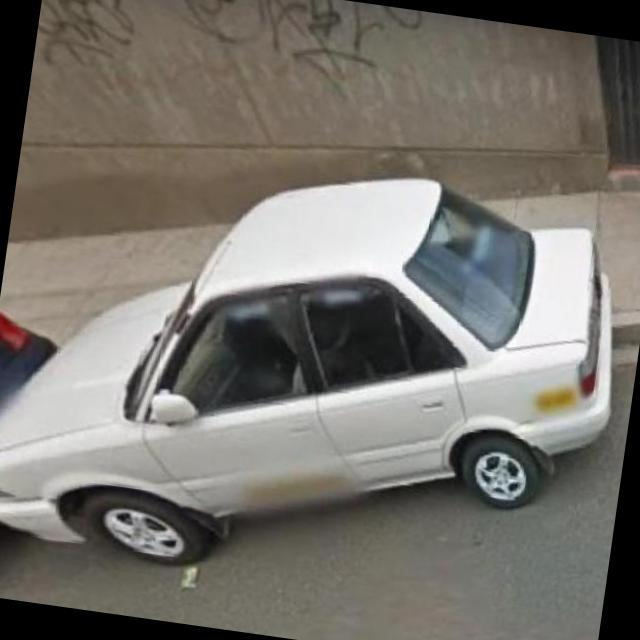car: (0, 123, 637, 629)
